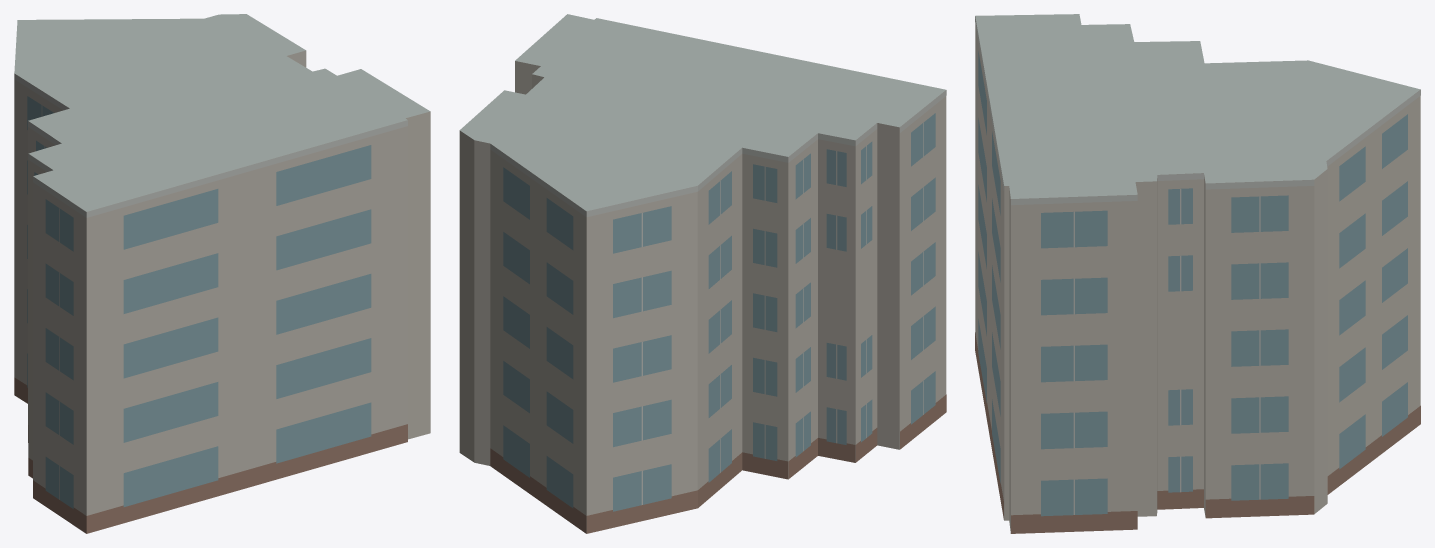
Rendered from survey-upis-33012716.glb.
3 renders of one model, left to right at view 1: azimuth 30°, elevation 25°; view 2: azimuth 150°, elevation 25°; view 3: azimuth 270°, elevation 25°, orthographic. The views are drawn at different scales.
Parts seen in each view (by area): view 1: survey-upis-33012716.tmp; view 2: survey-upis-33012716.tmp; view 3: survey-upis-33012716.tmp.
Part boxes in pixels (bbox=[...]): survey-upis-33012716.tmp: bbox=[14, 14, 430, 533]; survey-upis-33012716.tmp: bbox=[459, 14, 946, 533]; survey-upis-33012716.tmp: bbox=[975, 14, 1420, 533].
Size of the model in its own units: 15.66 by 13.2 by 15.93.
